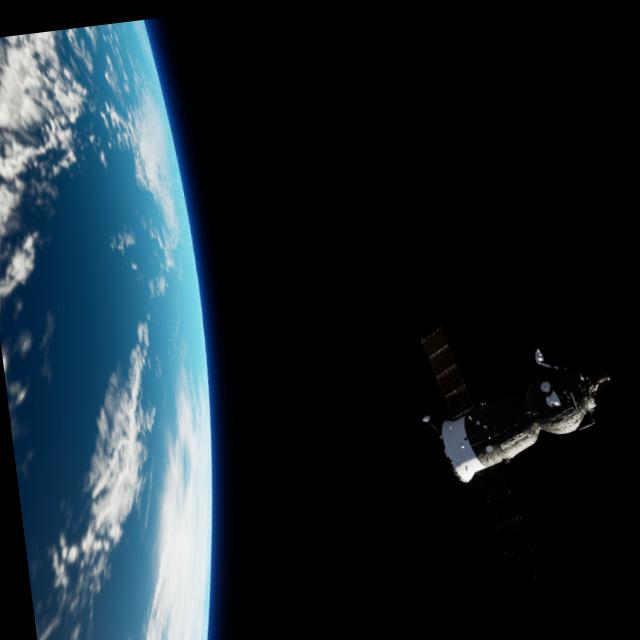Satellites revolving around earth: (410, 304, 622, 490)
